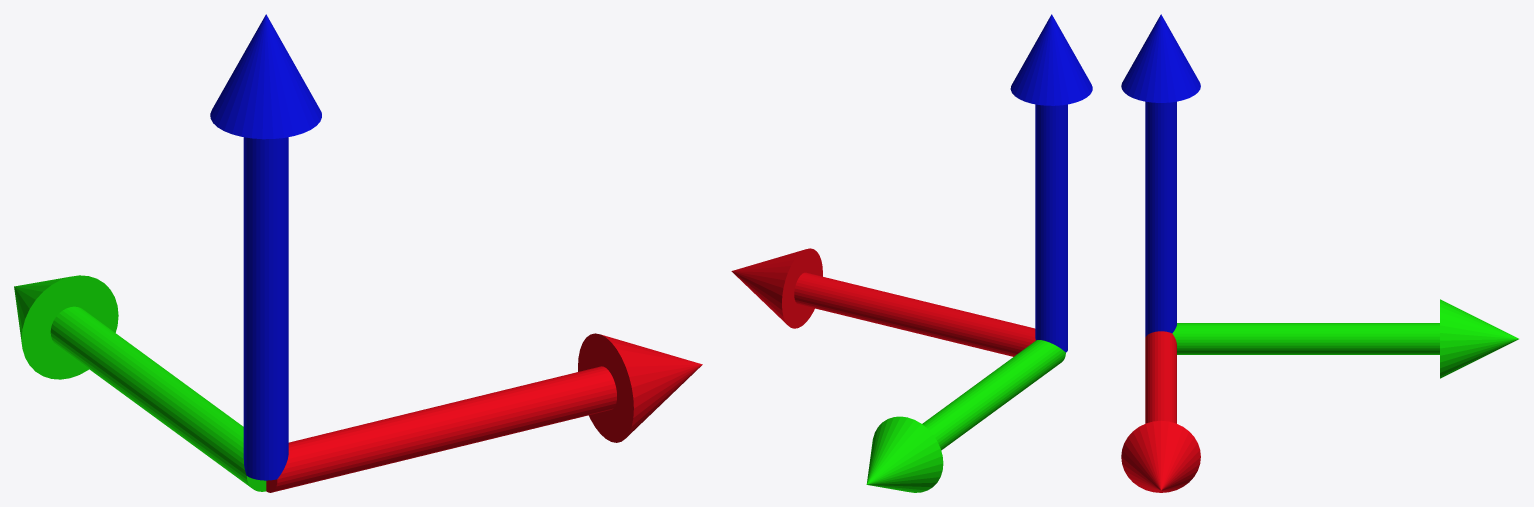
Rendered from Arrow.glb.
The picture shows the model from 3 angles, left to right: view 1: azimuth 30°, elevation 25°; view 2: azimuth 150°, elevation 25°; view 3: azimuth 270°, elevation 25°; orthographic projection. The views are drawn at different scales.
Visible parts, largest first — view 1: Pivot.002, Pivot, Pivot.001; view 2: Pivot.002, Pivot, Pivot.001; view 3: Pivot.001, Pivot.002, Pivot.
Boxes of the visible parts, x1,y1,x2,y2 form: Pivot.002: (210,14,321,480); Pivot: (266,333,702,492); Pivot.001: (14,275,266,491); Pivot.002: (1010,14,1092,352); Pivot: (731,248,1035,356); Pivot.001: (866,340,1065,492); Pivot.001: (1172,299,1518,378); Pivot.002: (1121,14,1200,336); Pivot: (1121,331,1200,492).
Size of the model in its own units: 2.5 by 2.5 by 2.5.
